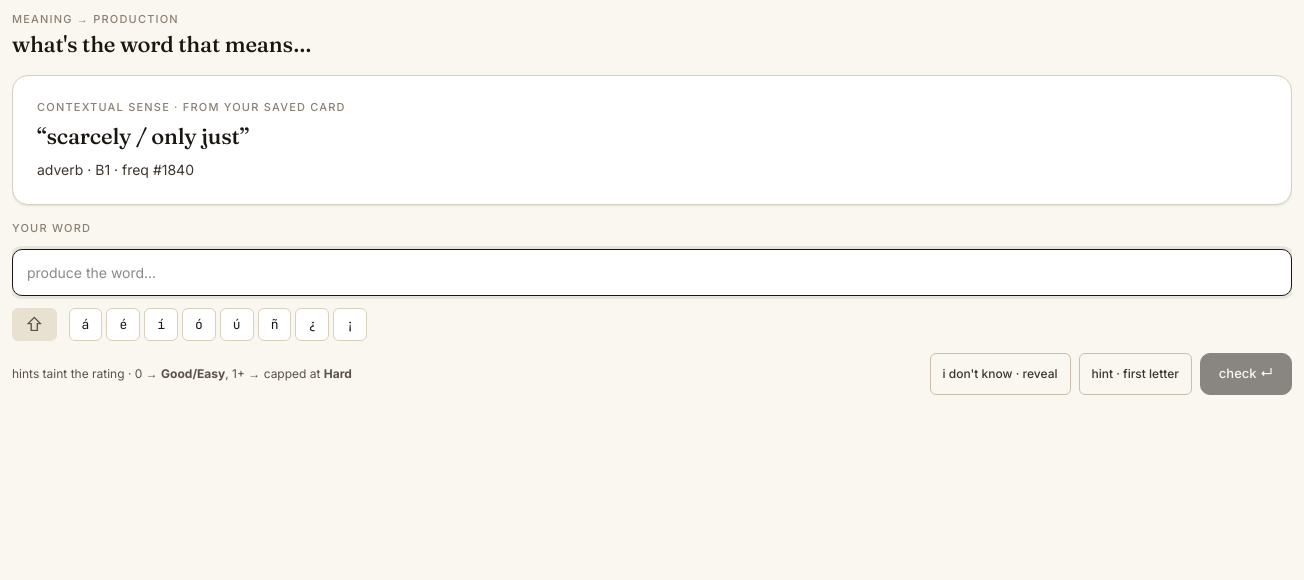
Test: MeaningItem progressive hints › reveals first letter, then letter count, then blanked example in order
Level 1 — first letter
Click the button "hint · first letter" at (1135, 374), box [1078,353,1192,395]
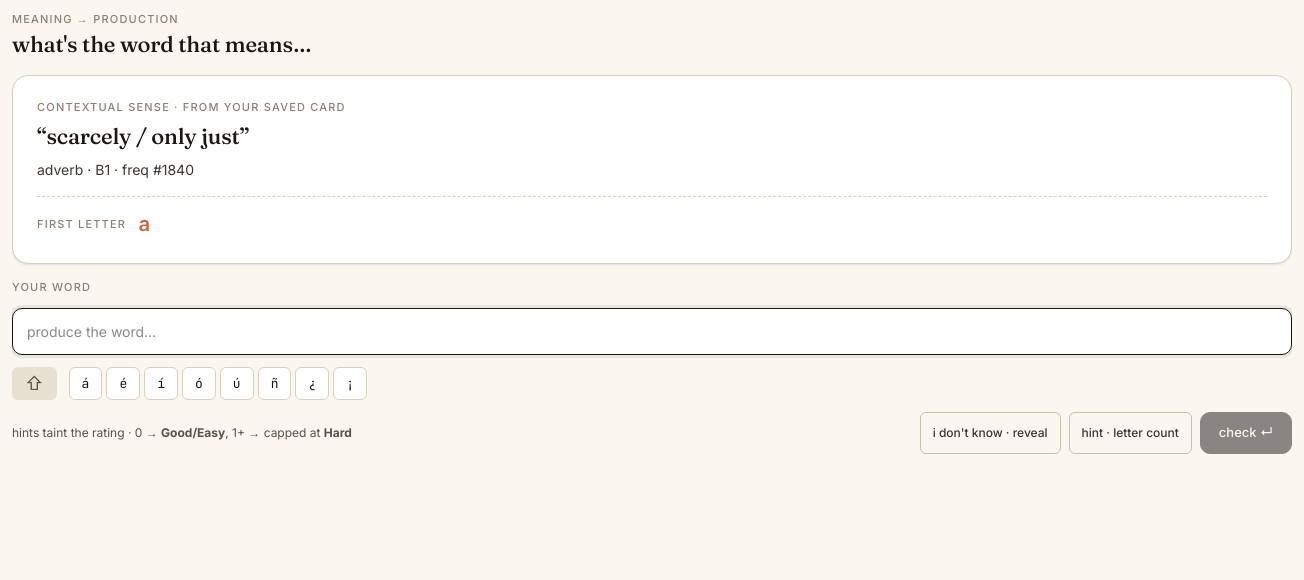
Expected: the text "6 letters" is not shown
Expected: the text "a" is shown, [138,210,150,240]
Level 2 — letter count
Click the button "hint · letter count" at (1130, 433), box [1069,412,1192,454]
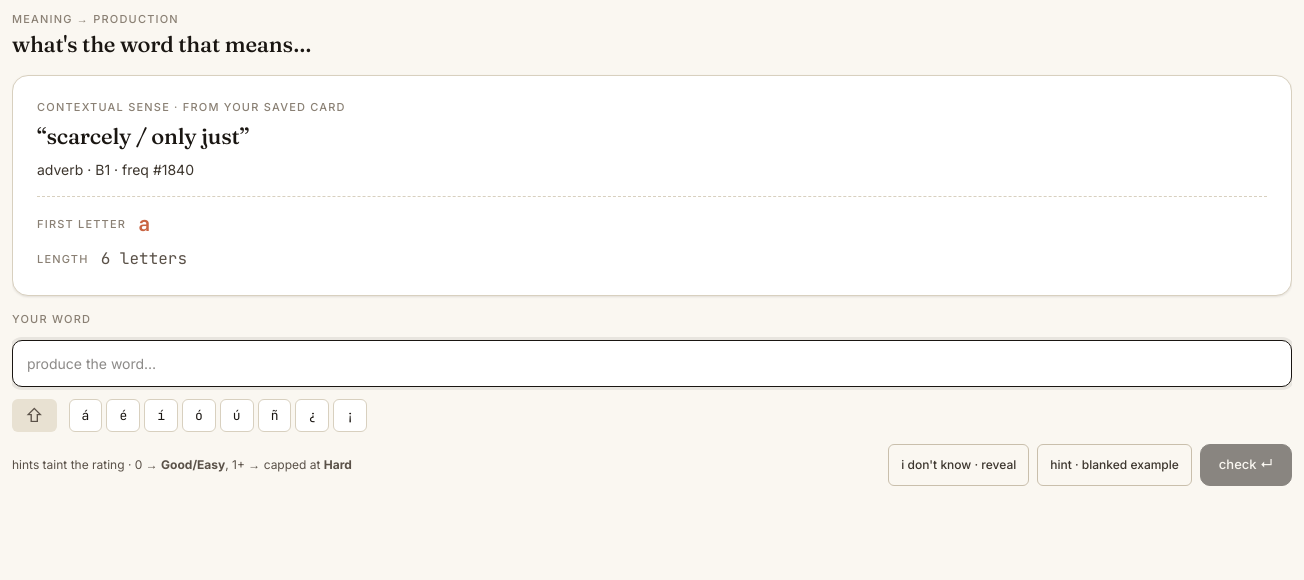
Expected: the text "6 letters" is shown, [101,248,187,272]
Level 3 — blanked example (surface masked)
Click the button "hint · blanked example" at (1115, 465), box [1037,444,1192,486]
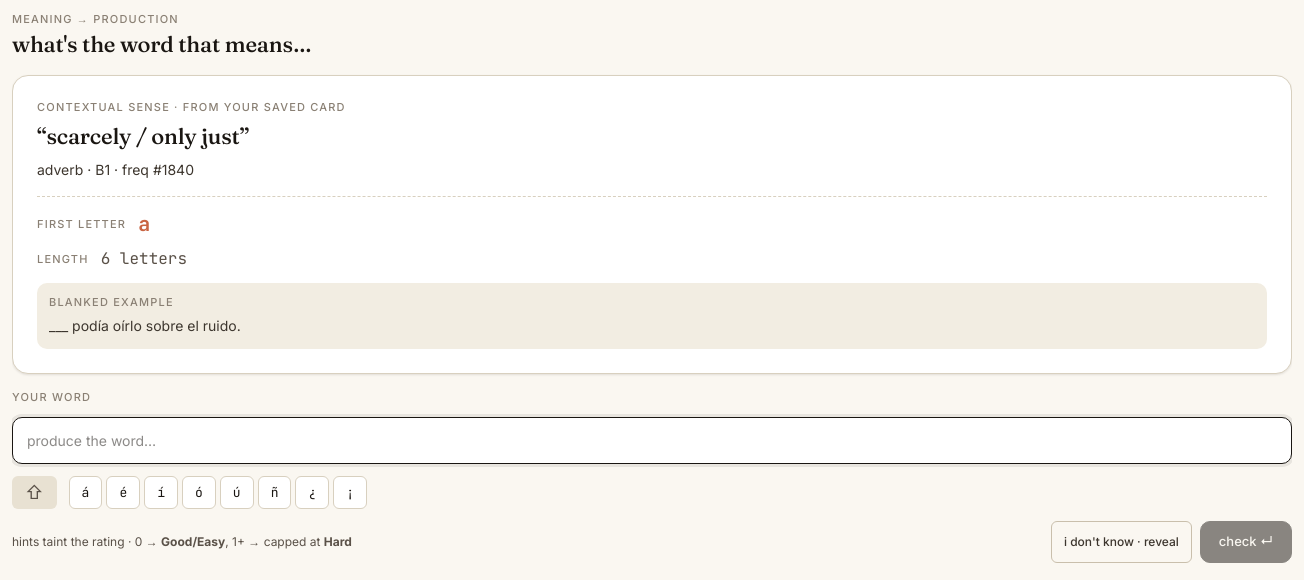
Expected: the text "___ podía oírlo sobre el ruido." is shown, [49,317,241,334]
